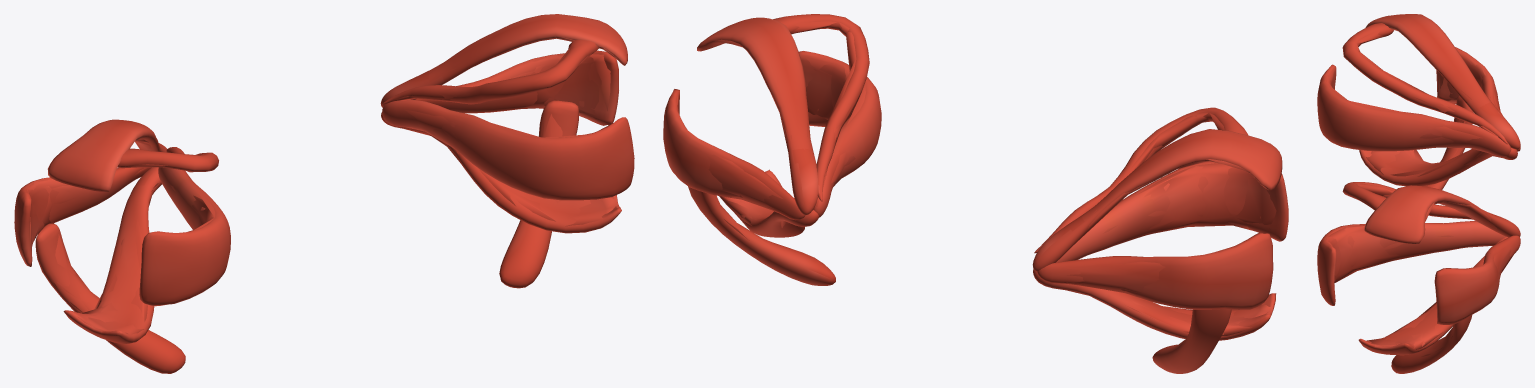
Rendered from musculi bulbi oculi.fbx.
3 renders of one model, left to right at view 1: azimuth 30°, elevation 25°; view 2: azimuth 150°, elevation 25°; view 3: azimuth 270°, elevation 25°, orthographic. The views are drawn at different scales.
Visible parts, largest first — view 1: musculi bulbi oculi, musculi bulbi oculi low; view 2: musculi bulbi oculi, musculi bulbi oculi low; view 3: musculi bulbi oculi, musculi bulbi oculi low.
Boxes of the visible parts, x1,y1,x2,y2 form: musculi bulbi oculi: [14, 14, 634, 373]; musculi bulbi oculi low: [27, 36, 618, 334]; musculi bulbi oculi: [663, 14, 1288, 373]; musculi bulbi oculi low: [676, 21, 1276, 346]; musculi bulbi oculi: [1317, 14, 1520, 373]; musculi bulbi oculi low: [1326, 27, 1513, 356].
Bounding box in the file's own units: 20.67 × 8.26 × 7.67.
